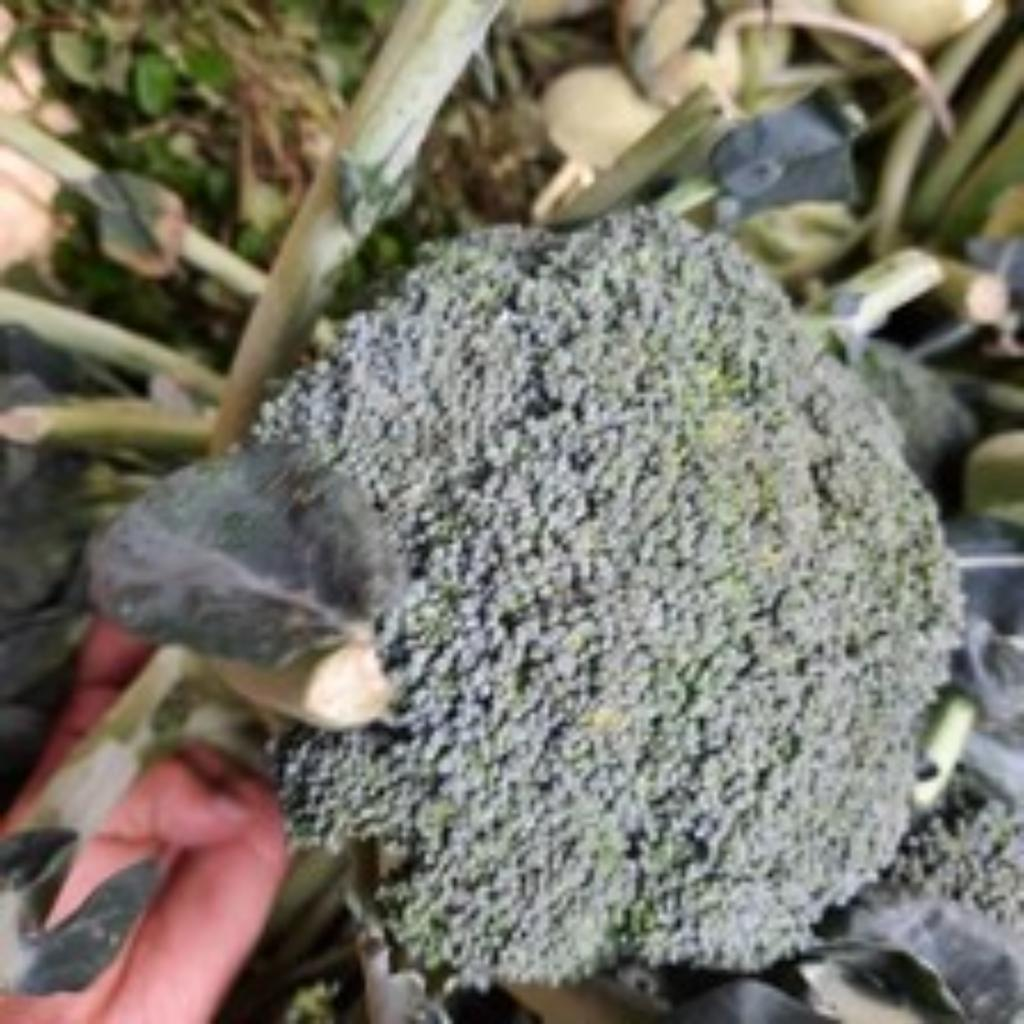Broccoli: (258, 208, 950, 981), (258, 210, 948, 981)
